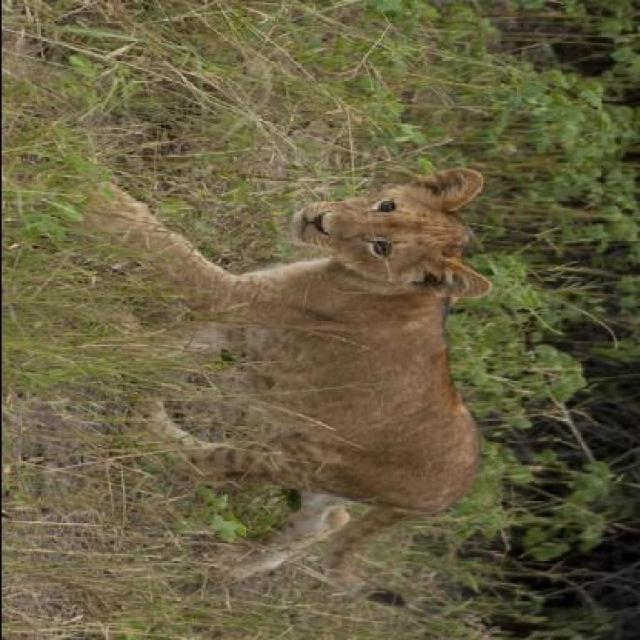Lion: (57, 154, 503, 621)
